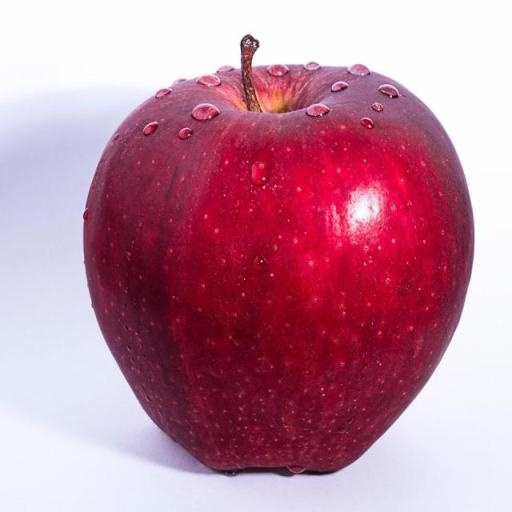fruit: (84, 36, 473, 471)
